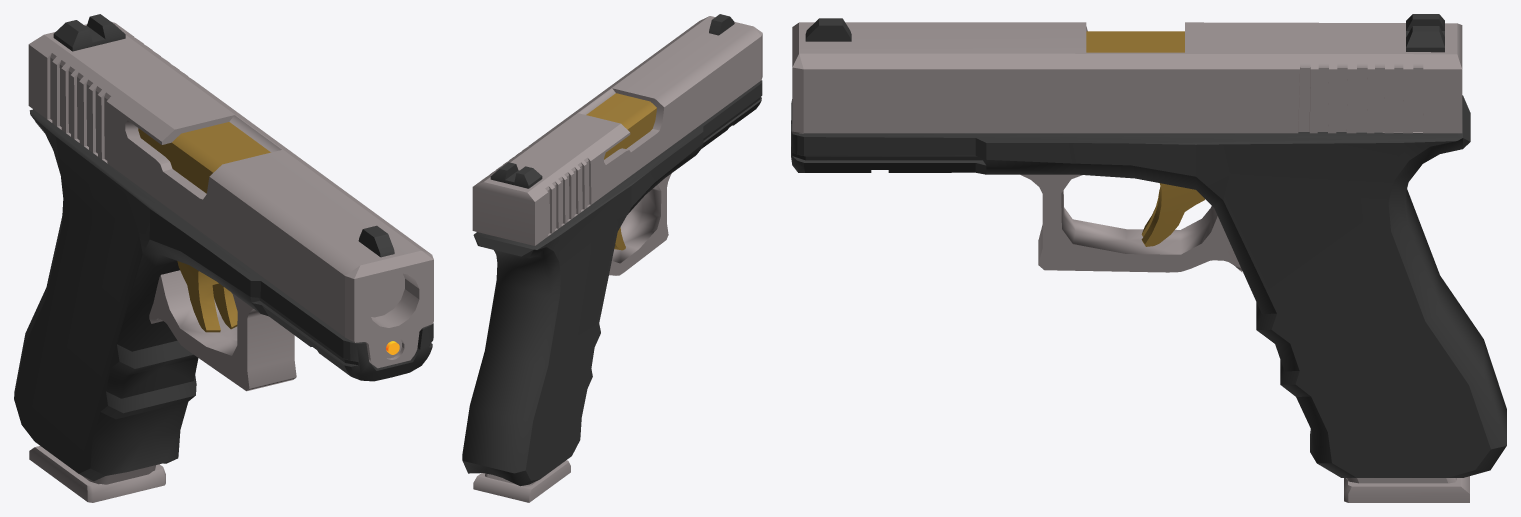
File: glock.glb
The picture shows the model from 3 angles, left to right: view 1: azimuth 30°, elevation 25°; view 2: azimuth 150°, elevation 25°; view 3: azimuth 270°, elevation 25°; orthographic projection. The views are drawn at different scales.
Parts seen in each view (by area): view 1: Cube.002, Cube, Cube.004, Cube.001, Cube.003, Cube.005; view 2: Cube, Cube.002, Cube.004, Cube.001, Cube.003; view 3: Cube, Cube.002, Cube.004, Cube.001, Cube.003, Cube.005.
Boxes of the visible parts, x1,y1,x2,y2 form: Cube.002: (28,22,433,368); Cube: (14,109,433,481); Cube.004: (149,270,296,391); Cube.001: (29,446,165,502); Cube.003: (53,14,394,257); Cube.005: (177,261,237,332); Cube: (462,80,762,486); Cube.002: (472,16,762,245); Cube.004: (609,173,671,275); Cube.001: (473,460,570,502); Cube.003: (490,14,734,188); Cube: (791,95,1506,477); Cube.002: (792,22,1462,133); Cube.004: (1020,174,1242,272); Cube.001: (1344,476,1469,502); Cube.003: (805,14,1444,52); Cube.005: (1141,183,1204,246).
Size of the model in its own units: 0.5333 by 2.24 by 3.15.
